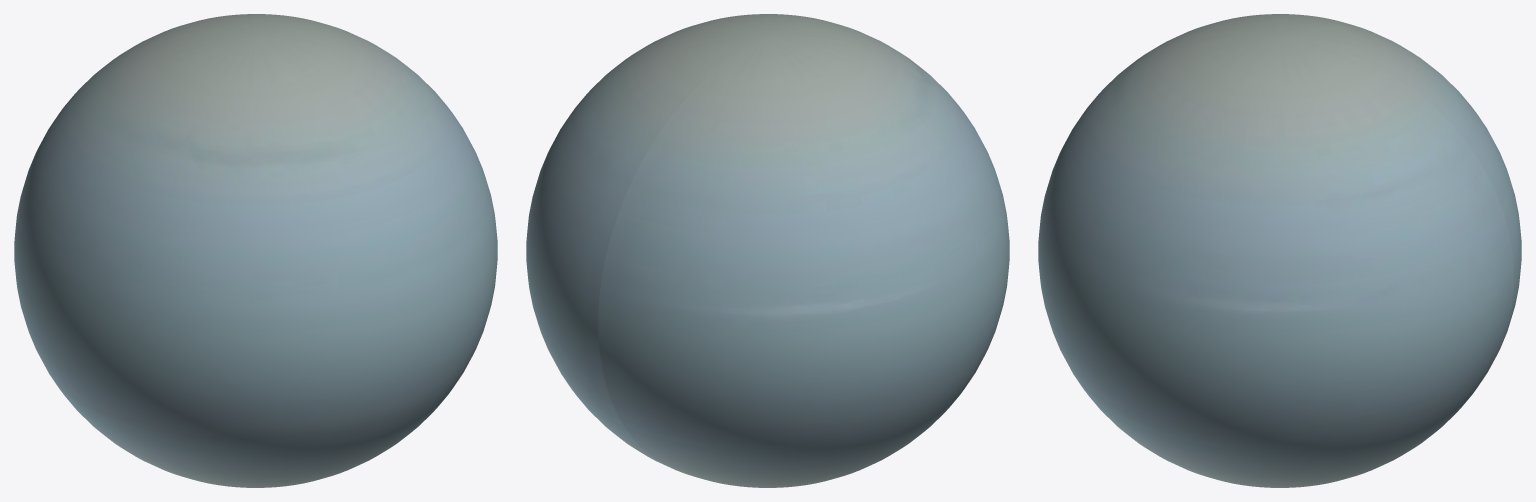
File: nasaUranus-transformed.glb
3 renders of one model, left to right at view 1: azimuth 30°, elevation 25°; view 2: azimuth 150°, elevation 25°; view 3: azimuth 270°, elevation 25°, orthographic.
Visible parts, largest first — view 1: Uranus; view 2: Uranus; view 3: Uranus.
Part boxes in pixels (box(x1,y1,x2,y2)): Uranus: box(14, 14, 497, 487); Uranus: box(526, 14, 1009, 487); Uranus: box(1038, 14, 1521, 487).
Size of the model in its own units: 1000 by 977 by 1000.
1 material, 1 textured.
